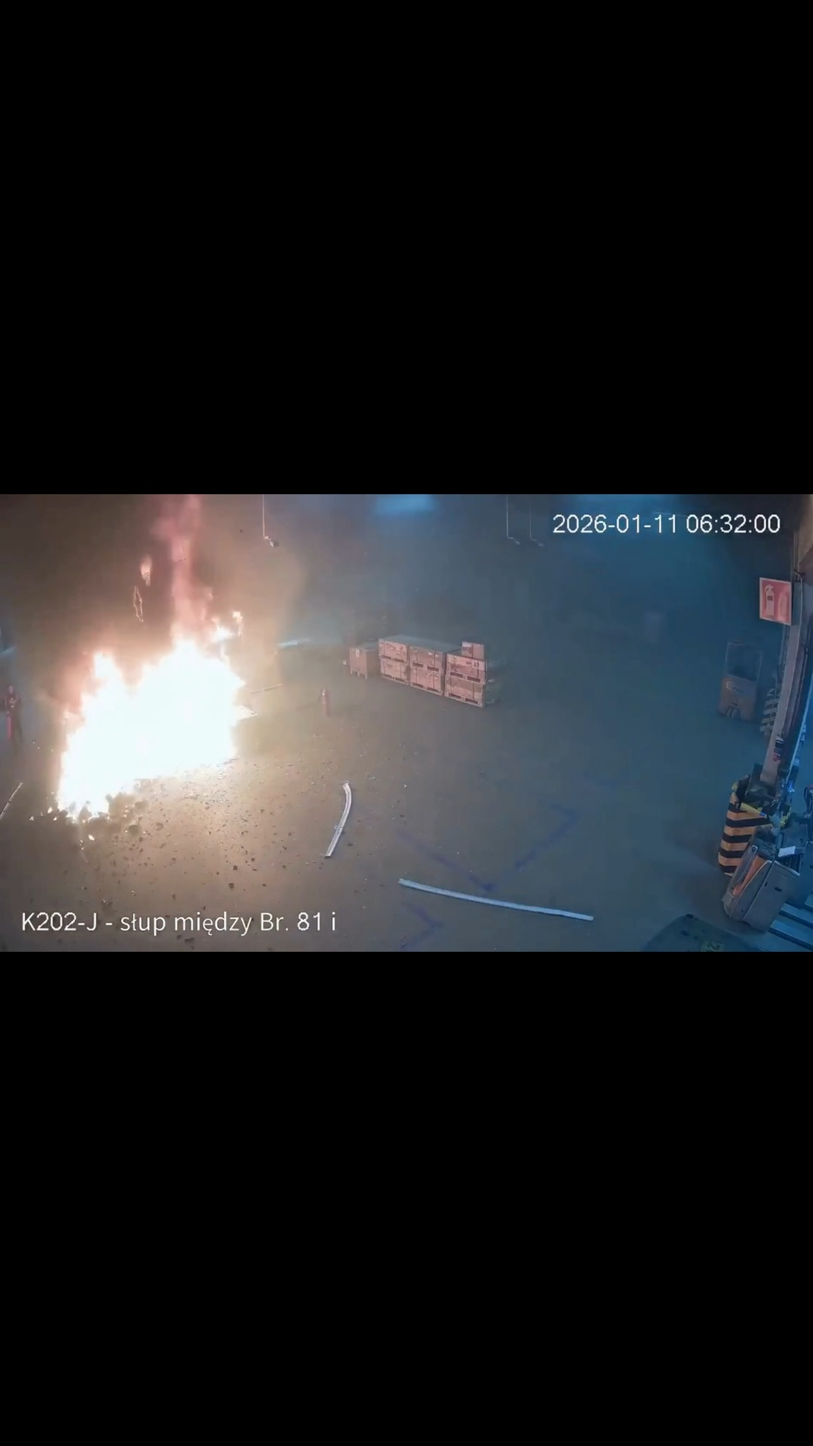fire: (53, 556, 257, 825)
smoke: (2, 495, 342, 650)
